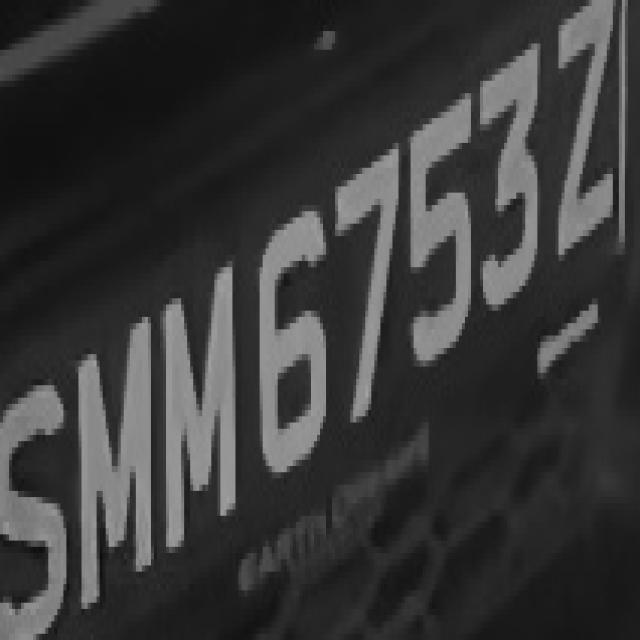3: (468, 56, 540, 329)
5: (389, 80, 483, 367)
6: (242, 205, 335, 472)
7: (320, 130, 408, 453)
M: (66, 298, 154, 609), (157, 242, 235, 541)
S: (3, 354, 66, 622)
Z: (543, 12, 628, 261)
